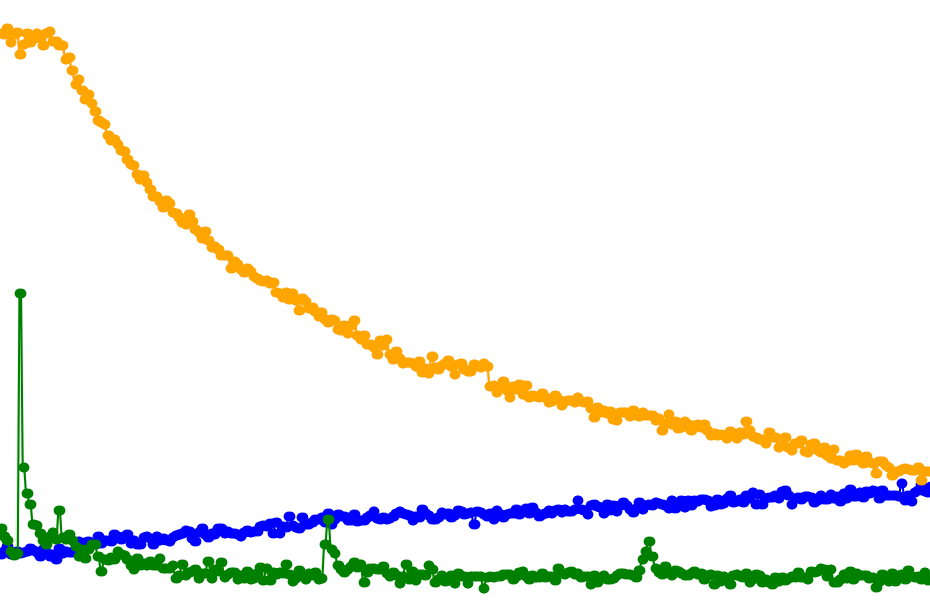Normal: (0, 0, 930, 616)
